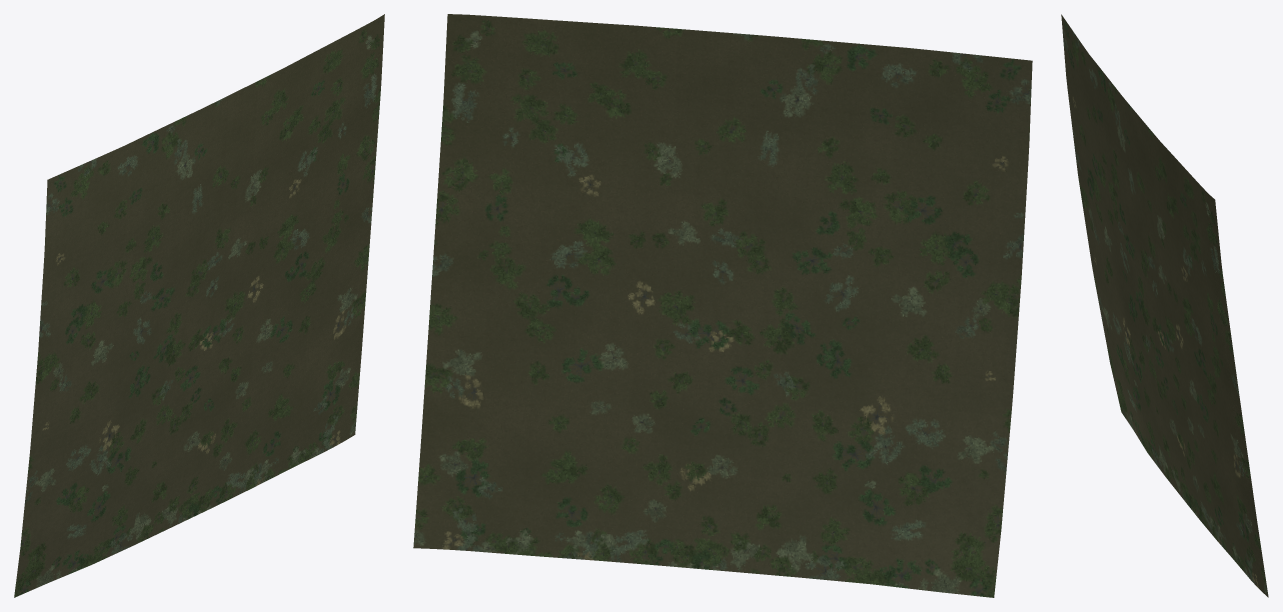
Rendered from terrain_near_09_08.obj.
3 views of the same model, side by side, from view 1: azimuth 30°, elevation 25°; view 2: azimuth 150°, elevation 25°; view 3: azimuth 270°, elevation 25° (orthographic). The views are drawn at different scales.
Visible parts, largest first — view 1: terrain_near_09_08; view 2: terrain_near_09_08; view 3: terrain_near_09_08.
Boxes of the visible parts, x1,y1,x2,y2 form: terrain_near_09_08: (14,14,384,597); terrain_near_09_08: (413,14,1032,597); terrain_near_09_08: (1061,14,1268,597).
Bounding box in the file's own units: 64 × 64 × 30.21.
1 material, 1 textured.
